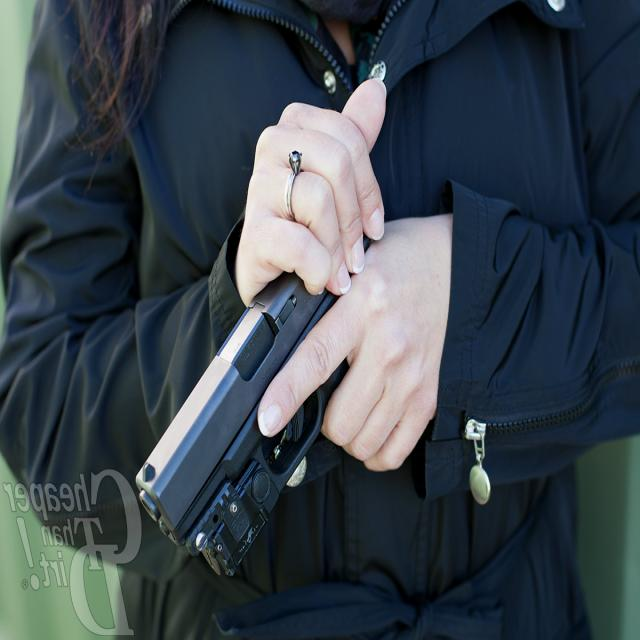pistol: (134, 196, 415, 585)
